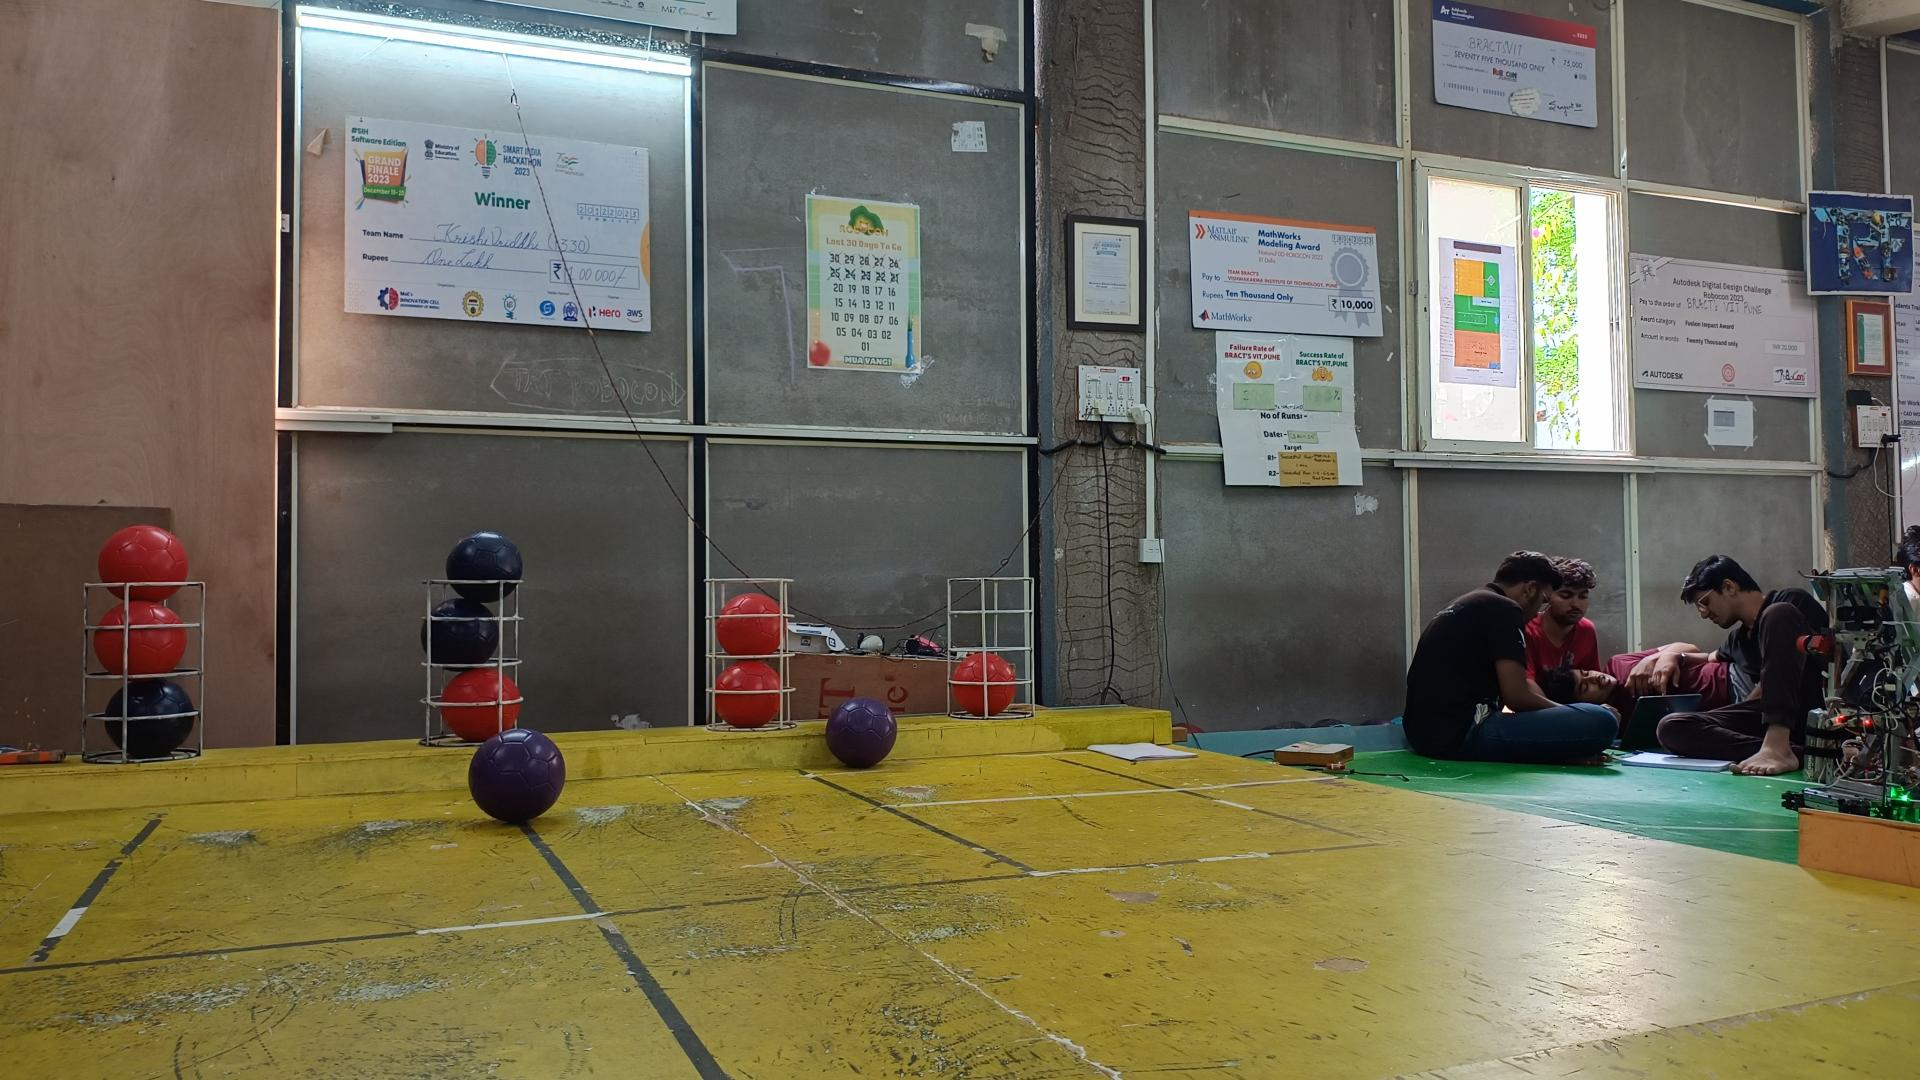dhoka: (105, 679, 195, 757), (446, 533, 521, 604), (419, 596, 498, 663)
laale: (94, 600, 187, 675), (98, 525, 187, 600), (439, 667, 521, 742), (712, 661, 783, 728), (716, 592, 783, 657), (952, 653, 1017, 716)
